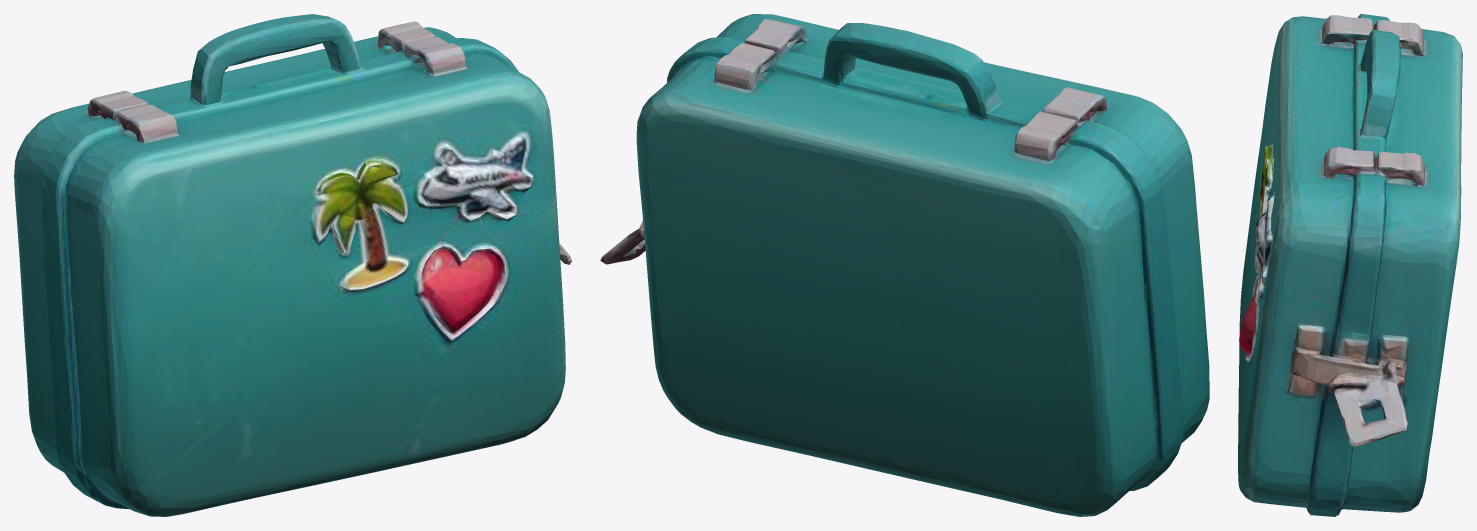
File: luggage.glb
3 renders of one model, left to right at view 1: azimuth 30°, elevation 25°; view 2: azimuth 150°, elevation 25°; view 3: azimuth 270°, elevation 25°, orthographic. The views are drawn at different scales.
Parts seen in each view (by area): view 1: tmp4ag6rqv2.ply; view 2: tmp4ag6rqv2.ply; view 3: tmp4ag6rqv2.ply.
Part boxes in pixels (x1,y1,x2,y2): tmp4ag6rqv2.ply: (14, 14, 571, 516); tmp4ag6rqv2.ply: (600, 14, 1209, 516); tmp4ag6rqv2.ply: (1238, 14, 1462, 516).
Size of the model in its own units: 1.99 by 1.54 by 0.8191.
1 material, 1 textured.
